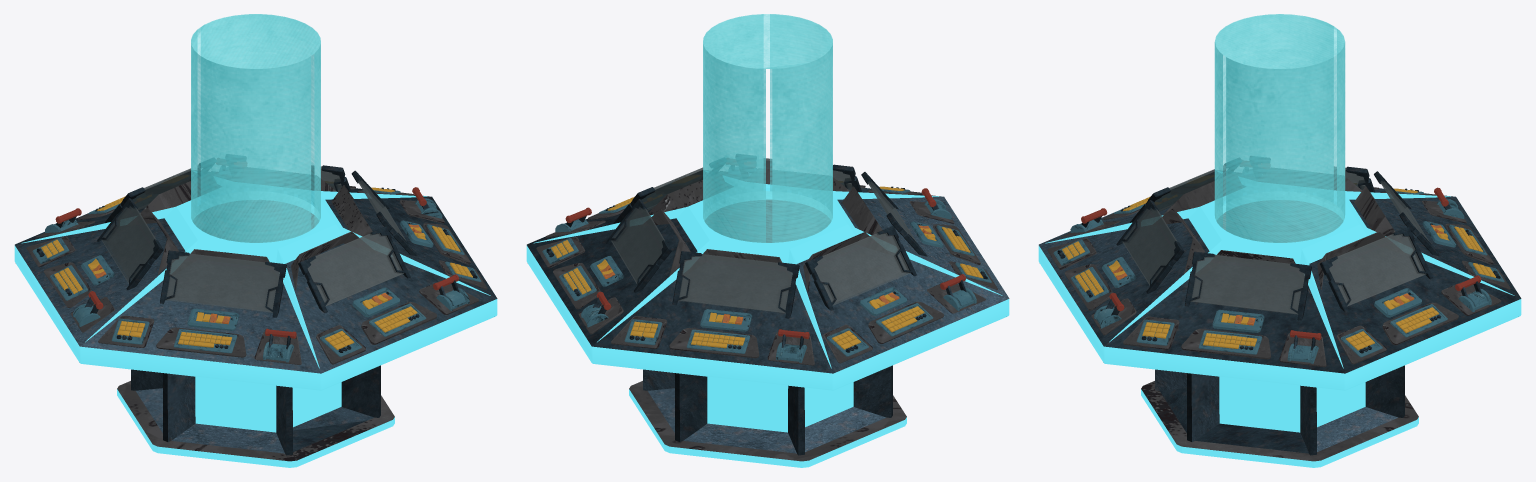
The model's file is console01.glb.
3 views of the same model, side by side, from view 1: azimuth 30°, elevation 25°; view 2: azimuth 150°, elevation 25°; view 3: azimuth 270°, elevation 25° (orthographic).
Visible parts, largest first — view 1: Object_359, Object_26, Object_23, defaultMaterial.032, Object_6, defaultMaterial.009, Object_171.014, Object_28, Object_7, defaultMaterial.005, Object_203.003, defaultMaterial.003 (+2 smaller); view 2: Object_359, Object_26, Object_23, defaultMaterial.032, Object_6, defaultMaterial.009, Object_171.014, Object_28, Object_7, defaultMaterial.005, Object_203.003, defaultMaterial.003 (+2 smaller); view 3: Object_359, Object_26, Object_23, defaultMaterial.032, Object_6, defaultMaterial.009, Object_171.014, Object_28, Object_7, defaultMaterial.005, Object_203.003, defaultMaterial.003 (+2 smaller).
Boxes of the visible parts, x1,y1,x2,y2 form: Object_359: [191, 14, 320, 242]; Object_26: [15, 172, 497, 373]; Object_23: [14, 201, 497, 467]; defaultMaterial.032: [101, 165, 406, 312]; Object_6: [131, 232, 380, 455]; defaultMaterial.009: [32, 170, 481, 362]; Object_171.014: [26, 172, 487, 364]; Object_28: [21, 184, 490, 368]; Object_7: [195, 376, 341, 432]; defaultMaterial.005: [97, 158, 418, 317]; Object_203.003: [140, 167, 372, 290]; defaultMaterial.003: [41, 187, 472, 349]; Object_359: [703, 14, 832, 242]; Object_26: [527, 172, 1009, 373]; Object_23: [526, 200, 1009, 467]; defaultMaterial.032: [611, 158, 916, 313]; Object_6: [643, 216, 892, 455]; defaultMaterial.009: [542, 170, 991, 362]; Object_171.014: [536, 171, 997, 365]; Object_28: [533, 177, 1002, 368]; Object_7: [707, 376, 853, 432]; defaultMaterial.005: [605, 155, 927, 318]; Object_203.003: [648, 169, 882, 291]; defaultMaterial.003: [551, 186, 983, 349]; Object_359: [1214, 14, 1345, 242]; Object_26: [1039, 171, 1521, 373]; Object_23: [1038, 201, 1521, 467]; defaultMaterial.032: [1122, 165, 1428, 314]; Object_6: [1155, 214, 1404, 455]; defaultMaterial.009: [1053, 170, 1504, 363]; Object_171.014: [1047, 187, 1510, 367]; Object_28: [1045, 171, 1514, 368]; Object_7: [1219, 376, 1365, 432]; defaultMaterial.005: [1116, 156, 1440, 320]; Object_203.003: [1162, 168, 1395, 293]; defaultMaterial.003: [1062, 188, 1495, 350].
Bounding box in the file's own units: 4.06 × 3.41 × 4.06.
Materials: 6 (5 with a texture image).
